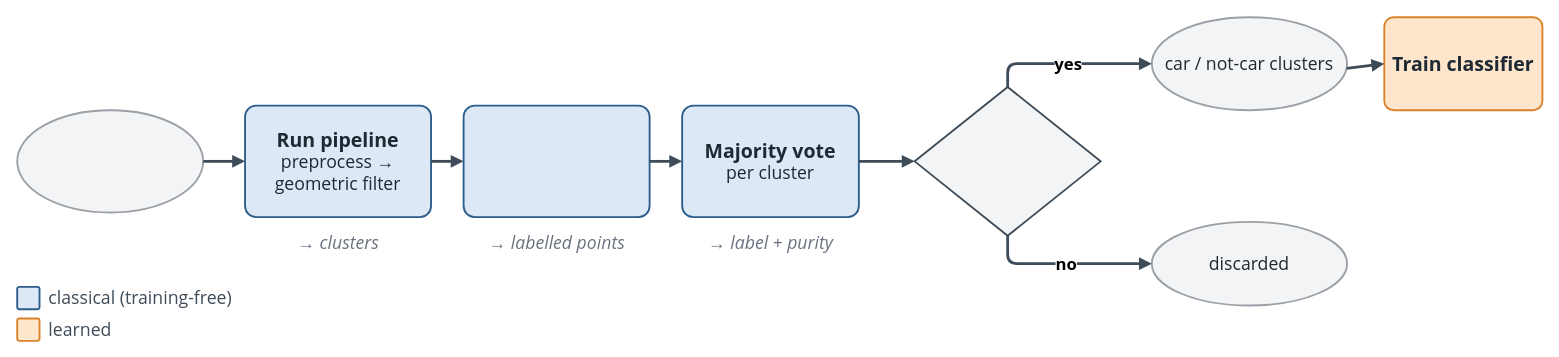
The diagram is 1559 pixels wide and 357 high, and some of its shapes have lost their labels. The centre of each missing label's shape, as x and y in pixels:
Label transfer nearest neighbour: (x=556, y=161)
purity ≥ 75%: (x=1007, y=161)
SemanticKITTI scan per-point labels: (x=110, y=161)
